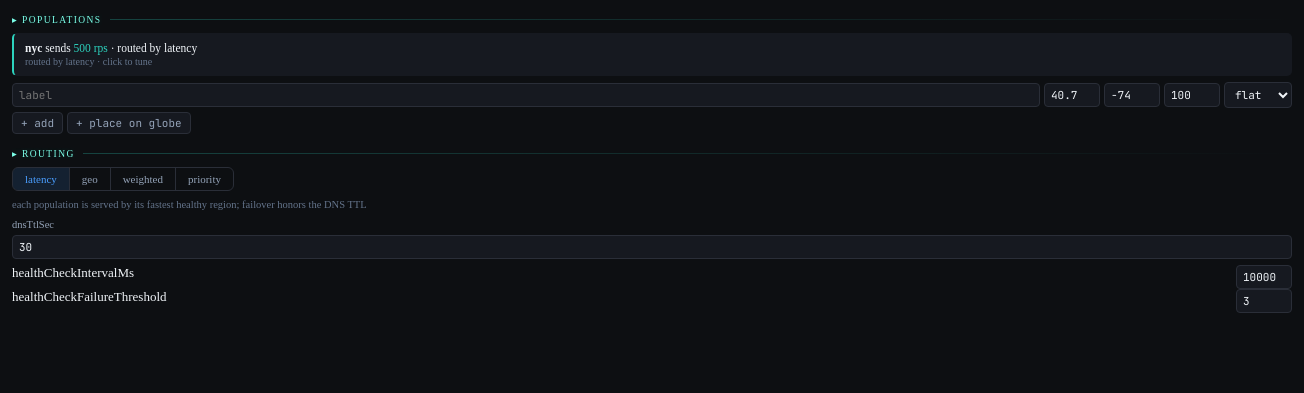
Test case: TrafficPanel — populations › shows a hint (no editor) when the route catalog is empty
This screenshot has width=1304, height=393.
Click the text "nyc".
click(34, 48)  # box [25,42,42,54]
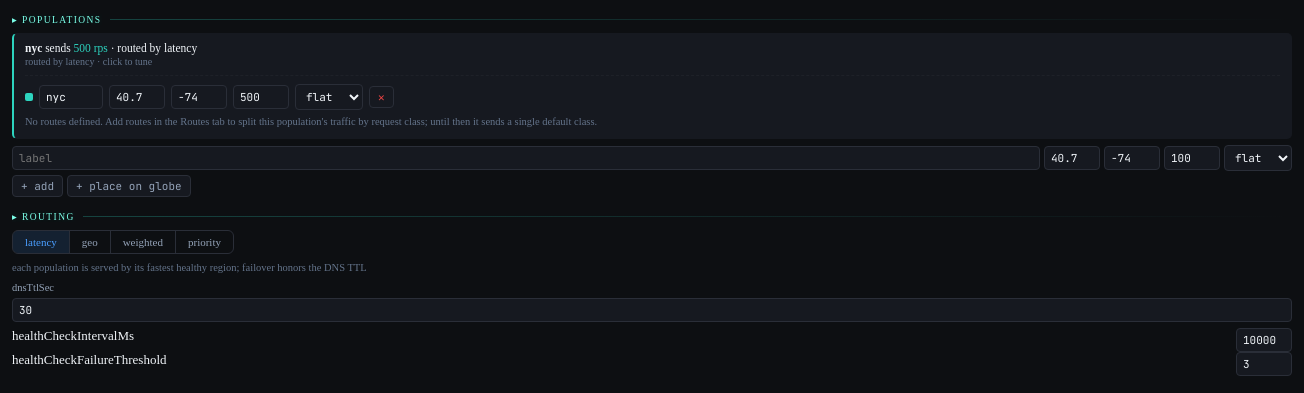
Now the text "No routes defined" is shown, box [25,116,597,127]
